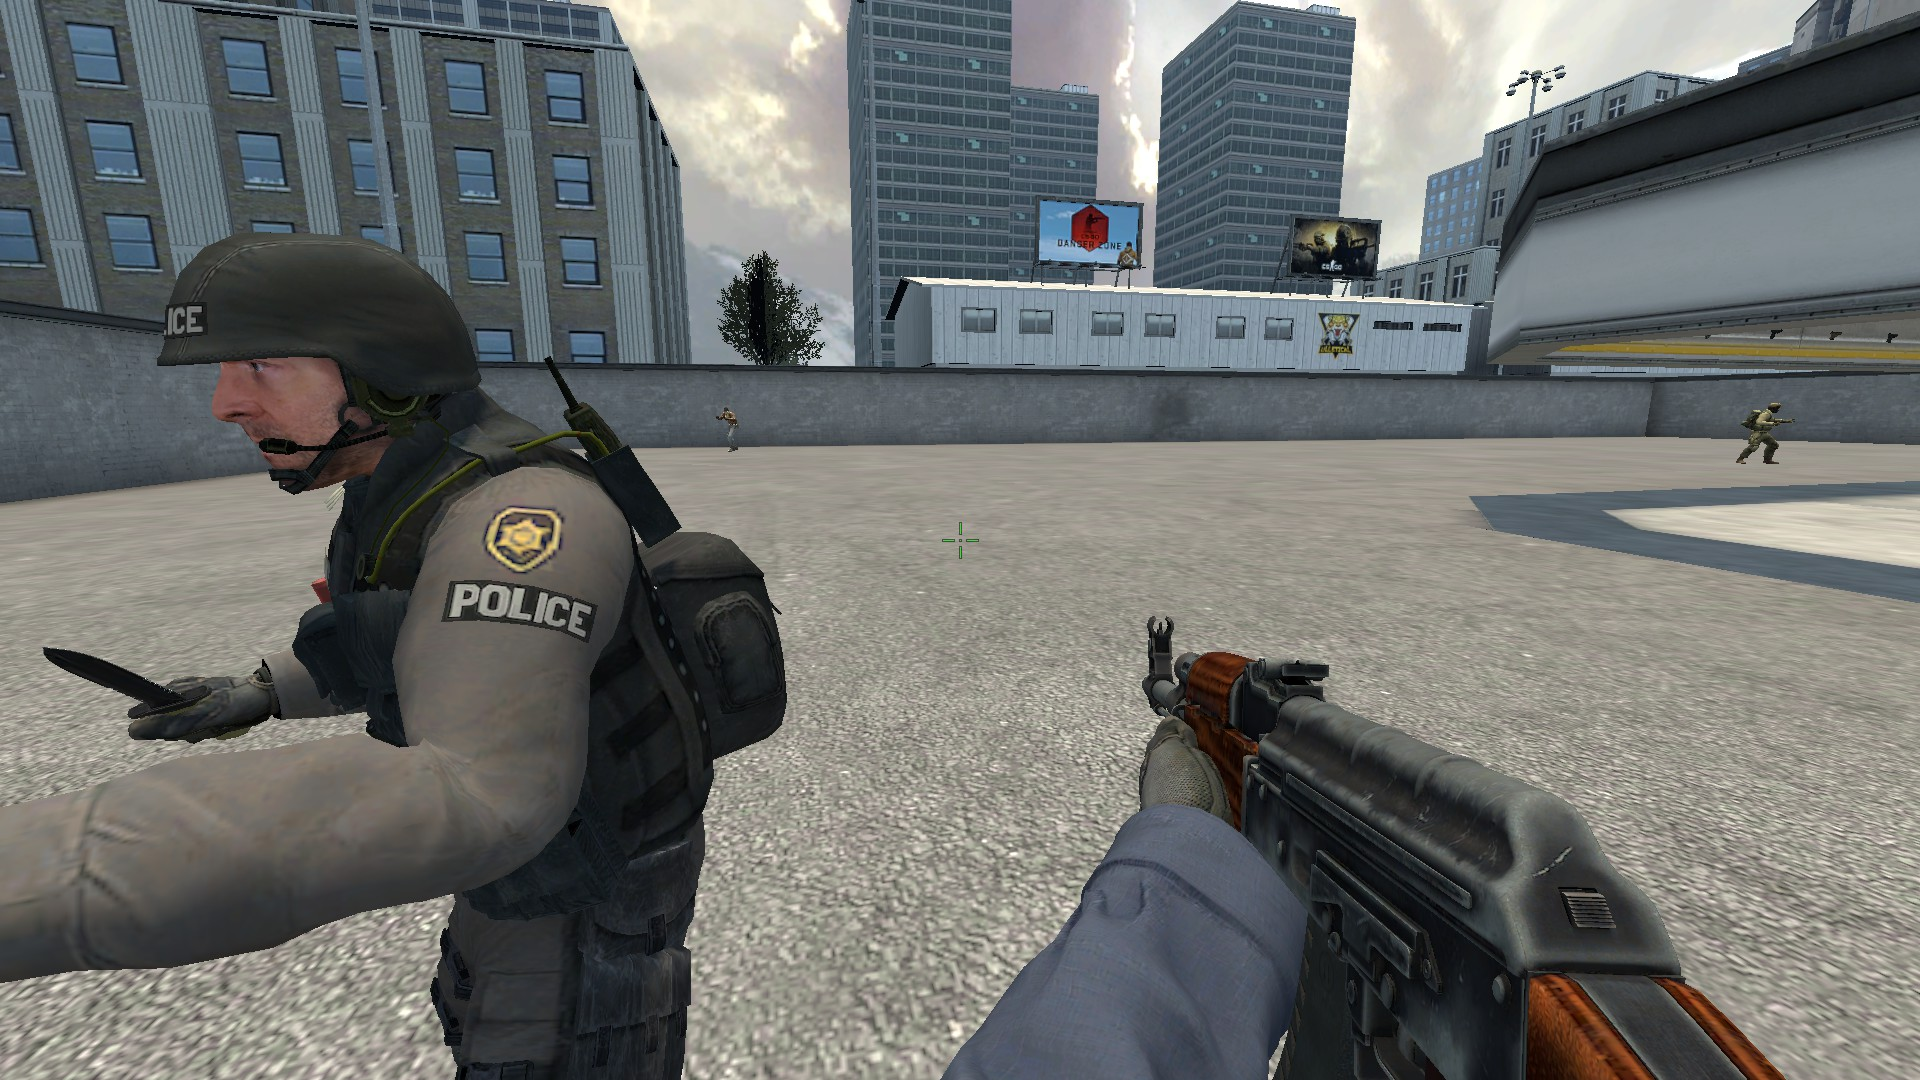ct: (1, 227, 793, 1080)
ct head: (154, 229, 487, 506)
